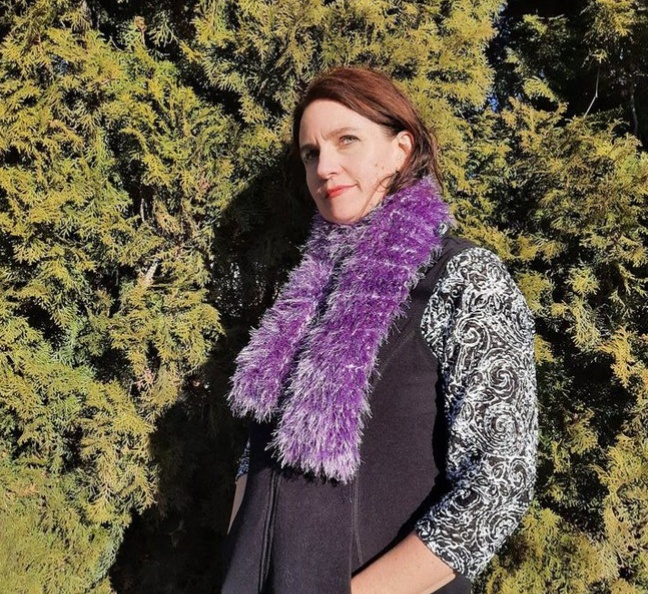mouth: (315, 183, 359, 199)
nose: (313, 168, 344, 178)
